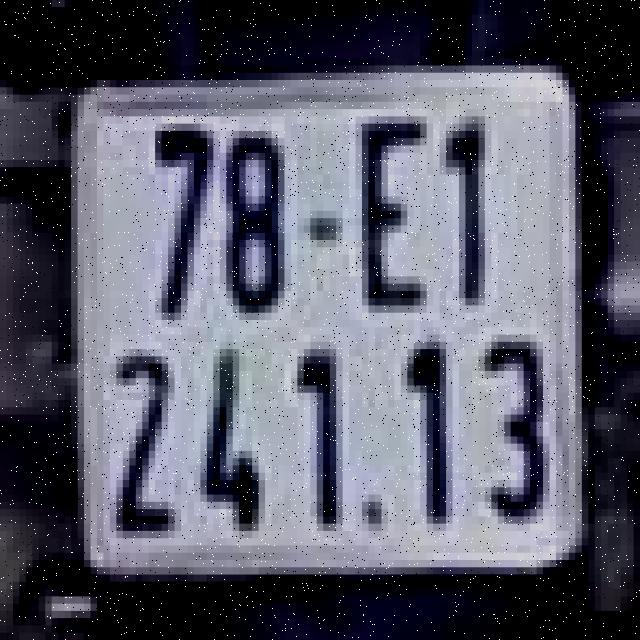1: (437, 112, 508, 324), (401, 331, 465, 534), (294, 342, 352, 531)
2: (97, 328, 181, 546)
3: (472, 327, 562, 538)
4: (194, 345, 278, 542)
7: (136, 105, 220, 324)
8: (223, 120, 294, 338)
E: (346, 102, 436, 320)
